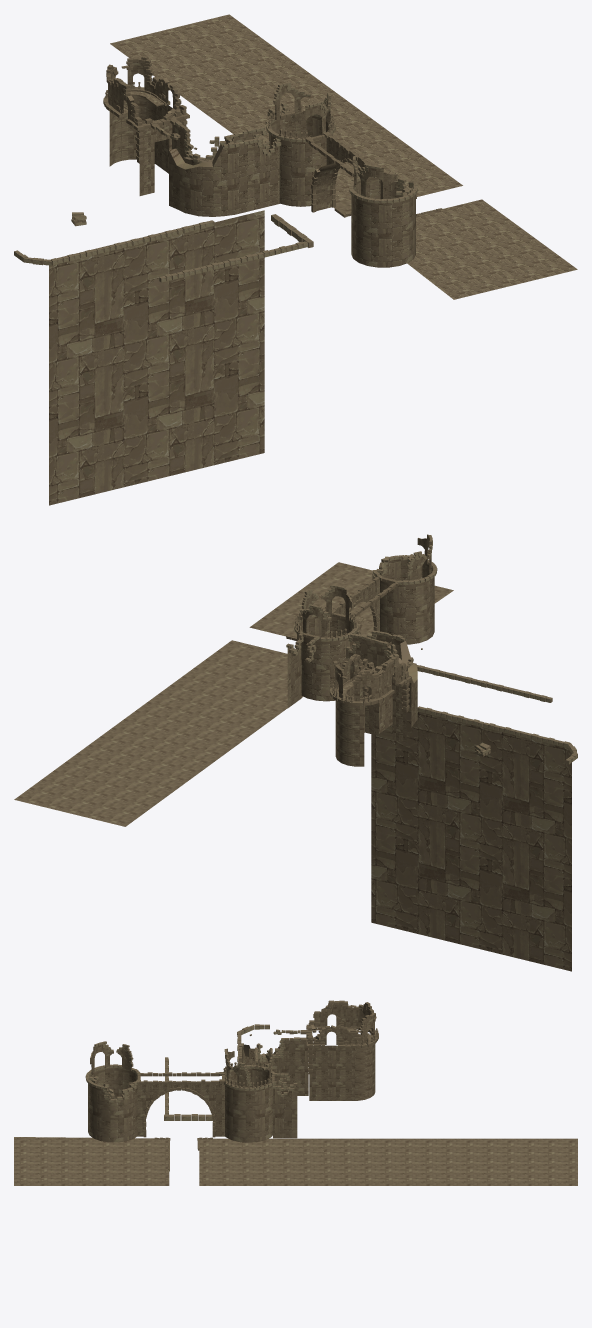
Rendered from bfcs_07.FBX.
3 views of the same model, one above another, from view 1: azimuth 30°, elevation 25°; view 2: azimuth 150°, elevation 25°; view 3: azimuth 270°, elevation 25° (orthographic). The views are drawn at different scales.
Parts seen in each view (by area): view 1: bfcs_07; view 2: bfcs_07; view 3: bfcs_07.
Part boxes in pixels (bbox=[...]): bfcs_07: bbox=[14, 14, 577, 505]; bfcs_07: bbox=[14, 534, 577, 971]; bfcs_07: bbox=[14, 1000, 577, 1185].
Bounding box in the file's own units: 3775 × 3095 × 5620.
